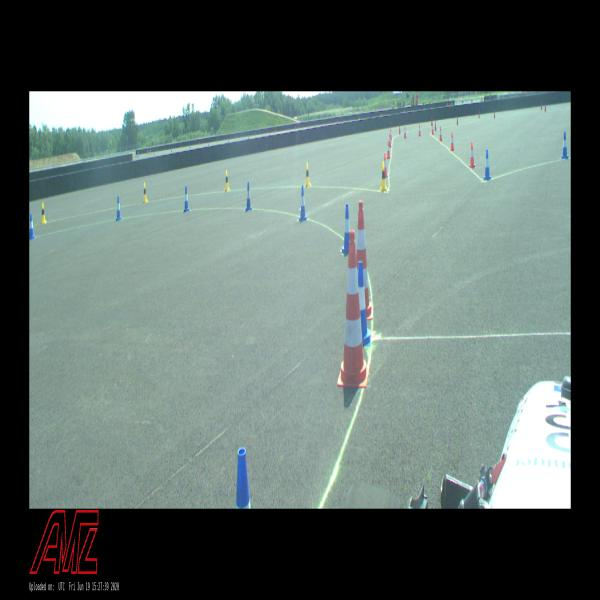blue_cone: (358, 260, 371, 347), (236, 446, 251, 508), (340, 204, 350, 256), (298, 186, 308, 220), (483, 149, 491, 180), (561, 131, 569, 159), (245, 182, 252, 212), (115, 195, 123, 221), (29, 213, 36, 240), (183, 186, 190, 212)
large_orange_cone: (337, 230, 369, 387), (357, 202, 373, 320)
orange_cone: (469, 142, 476, 168), (450, 132, 455, 152), (384, 153, 388, 178), (386, 140, 391, 159), (438, 126, 442, 141), (403, 126, 407, 139), (418, 123, 421, 137), (431, 122, 434, 135), (389, 132, 391, 148), (390, 127, 392, 140)
unknown_cone: (434, 120, 436, 132), (399, 125, 401, 135), (478, 109, 480, 119), (494, 109, 496, 119), (544, 102, 546, 112), (540, 101, 542, 111), (456, 117, 458, 126)
yellow_cone: (380, 161, 387, 191), (40, 202, 47, 224), (304, 163, 310, 188), (224, 170, 230, 192), (143, 182, 148, 203)
